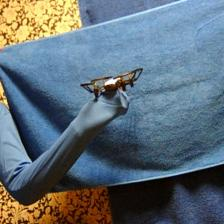drone: (80, 68, 142, 97)
